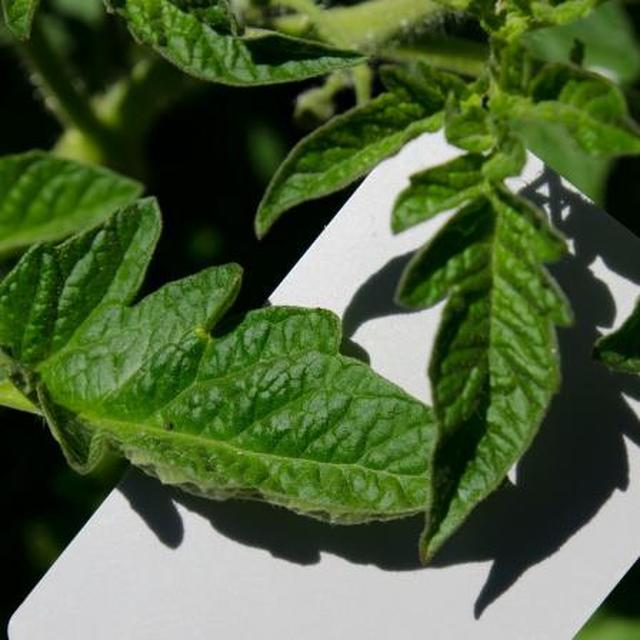Healthy Leaf: (264, 223, 640, 610)
